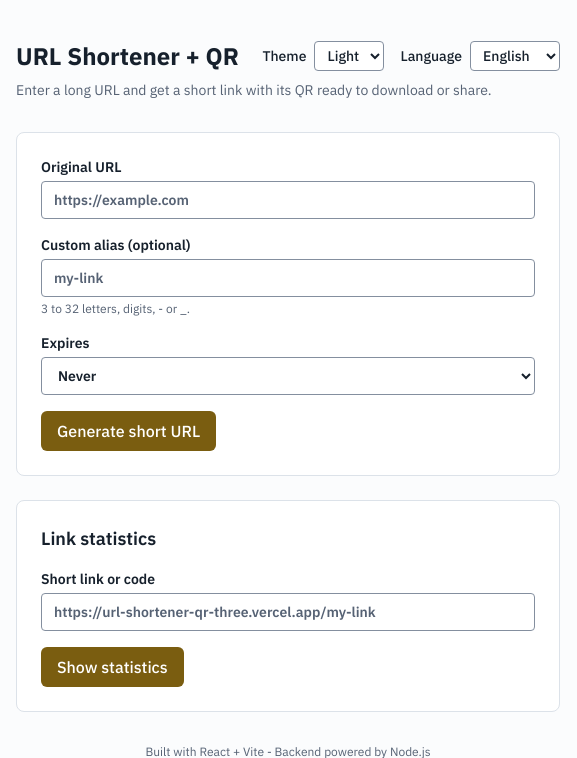
Test: App (spec 006) › opens the new link's statistics from the result card (RF-5)
Type "https://example.com/talk" into the field labelled "Original URL" at (288, 200), box [41, 181, 535, 219]
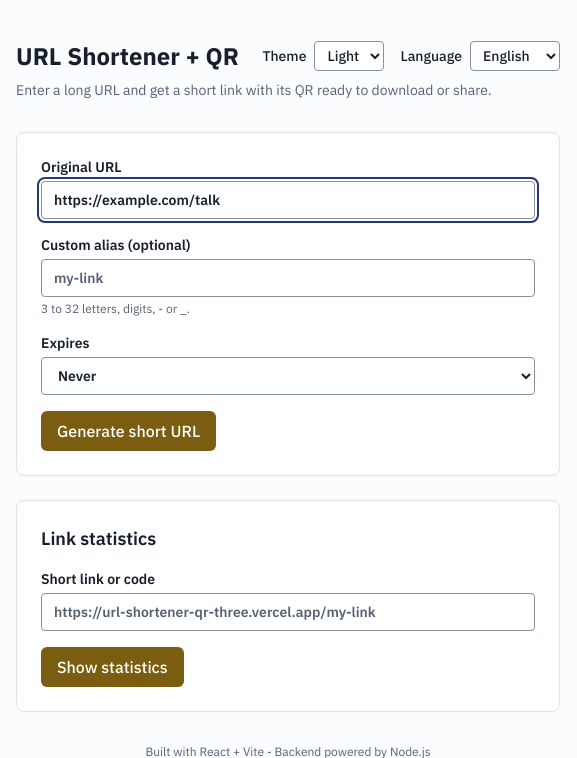
Click the button "Generate short URL" at (129, 431), box [41, 411, 216, 451]
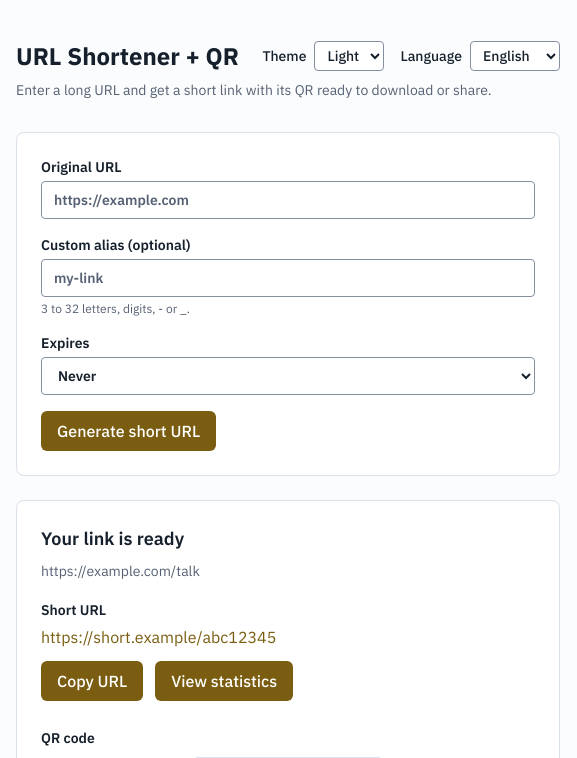
Click the button "View statistics" at (224, 681), box [155, 661, 293, 701]
(page scrolled)
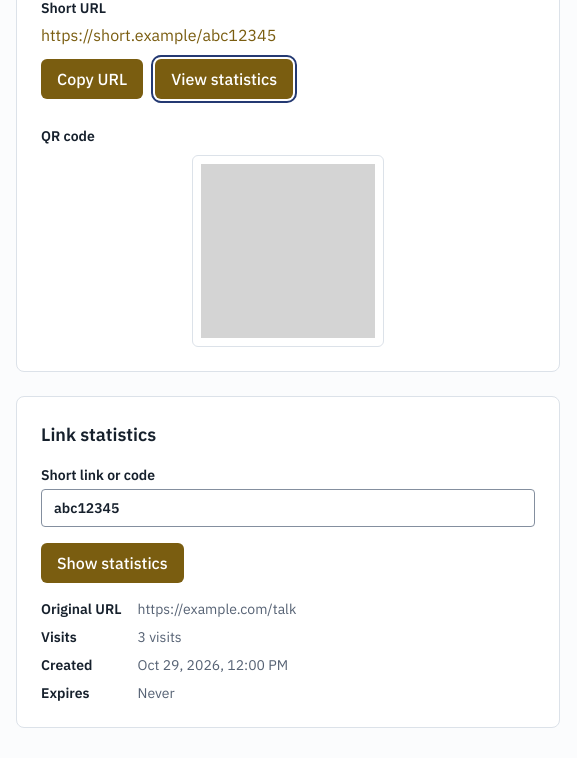
Expected: the text "3 visits" is shown, [138, 628, 182, 646]
